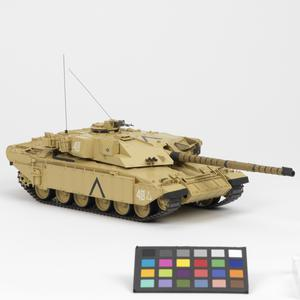Battle Tank: (5, 121, 297, 224)
